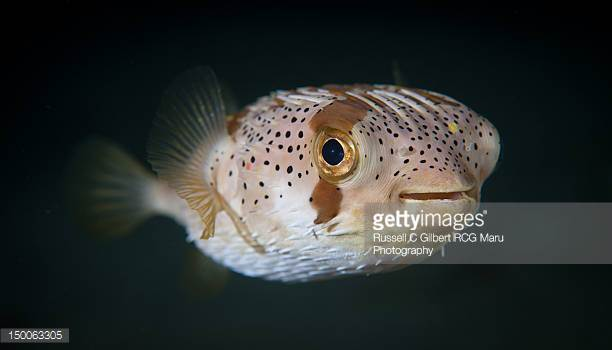Diodon_holocanthus: (66, 48, 519, 290)
